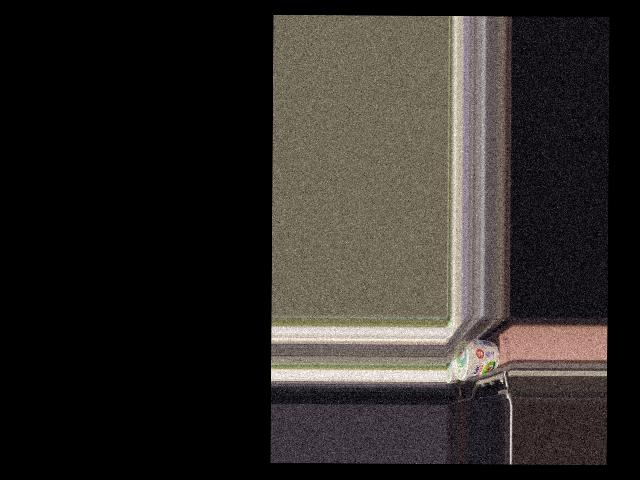cotage: (452, 337, 498, 377)
